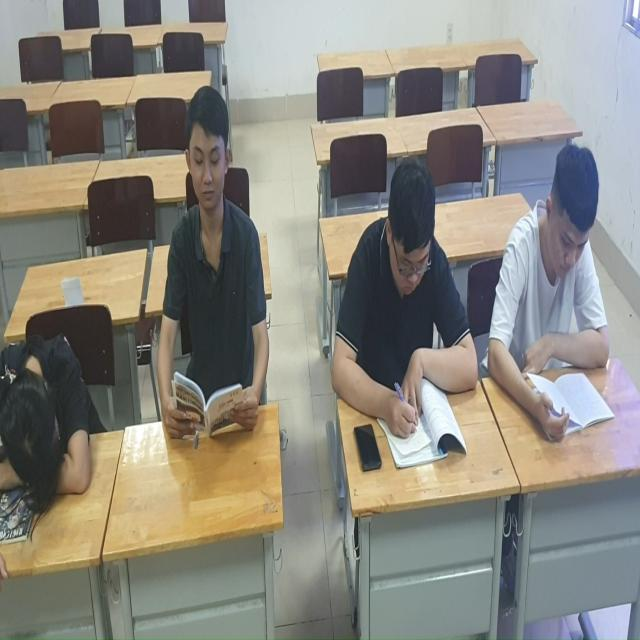read: (326, 140, 491, 487), (155, 86, 283, 470), (498, 139, 616, 446)
sleep: (1, 295, 101, 524)
